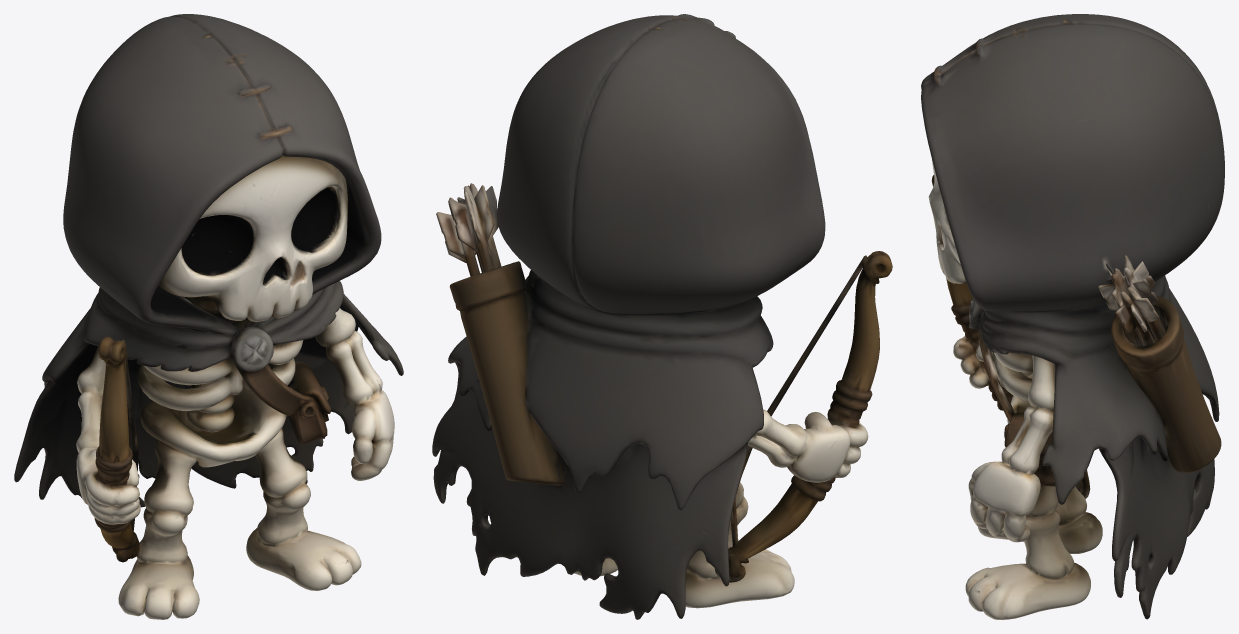
The model's file is skeleton-archer.glb.
The picture shows the model from 3 angles, left to right: view 1: azimuth 30°, elevation 25°; view 2: azimuth 150°, elevation 25°; view 3: azimuth 270°, elevation 25°; orthographic projection. The views are drawn at different scales.
Parts seen in each view (by area): view 1: node_0; view 2: node_0; view 3: node_0.
Boxes of the visible parts, <box> form: node_0: <box>14,14,403,619</box>; node_0: <box>432,14,892,619</box>; node_0: <box>921,14,1224,619</box>.
Size of the model in its own units: 0.7619 by 1.08 by 0.5496.
Materials: 1 (1 with a texture image).
